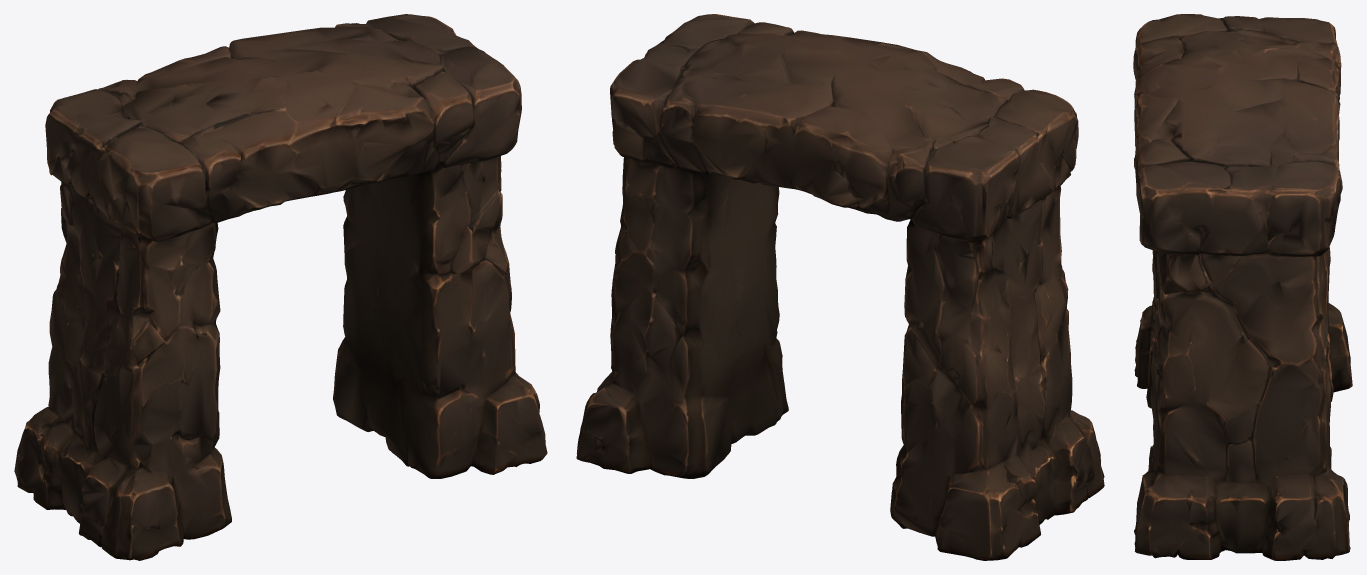
Rendered from arco_de_piedra_2.glb.
3 renders of one model, left to right at view 1: azimuth 30°, elevation 25°; view 2: azimuth 150°, elevation 25°; view 3: azimuth 270°, elevation 25°, orthographic. The views are drawn at different scales.
Parts seen in each view (by area): view 1: arco_de_piedra_2; view 2: arco_de_piedra_2; view 3: arco_de_piedra_2.
Part boxes in pixels (x1,y1,x2,y2): arco_de_piedra_2: [14, 14, 547, 560]; arco_de_piedra_2: [576, 14, 1104, 560]; arco_de_piedra_2: [1133, 14, 1352, 560].
Size of what is drawn, in the model's own units: 3.38 by 3 by 1.56.
1 material, 1 textured.
